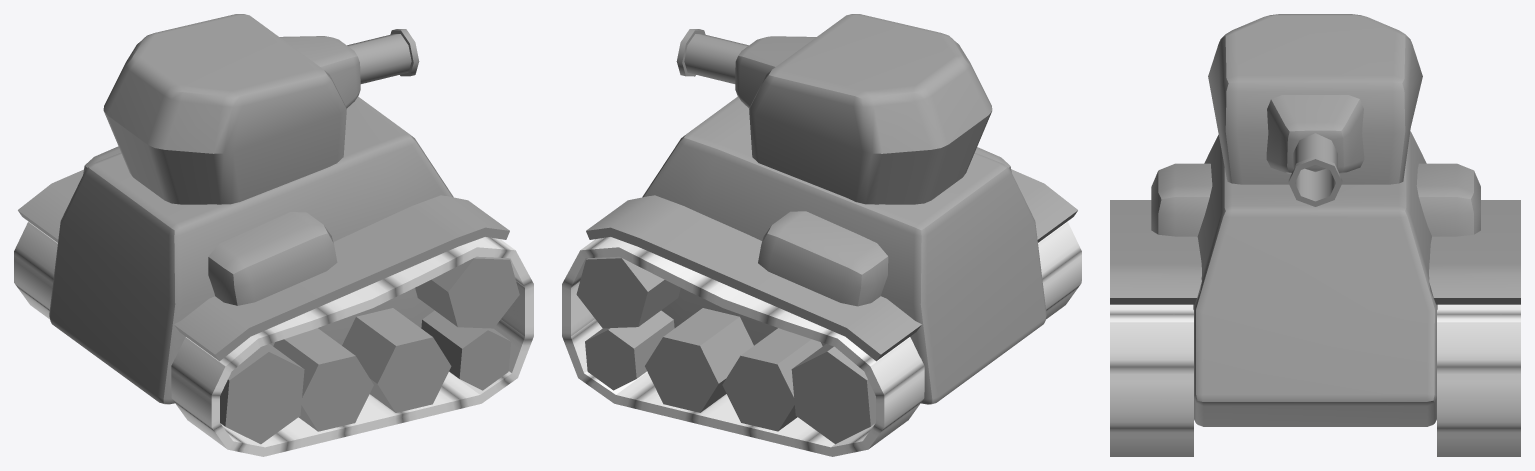
The model's file is SM_LPTank.fbx.
The picture shows the model from 3 angles, left to right: view 1: azimuth 30°, elevation 25°; view 2: azimuth 150°, elevation 25°; view 3: azimuth 270°, elevation 25°; orthographic projection. The views are drawn at different scales.
Visible parts, largest first — view 1: Tank; view 2: Tank; view 3: Tank.
Boxes of the visible parts, x1=… form: Tank: x1=14, y1=14, x2=533, y2=456; Tank: x1=562, y1=14, x2=1081, y2=456; Tank: x1=1110, y1=14, x2=1520, y2=456.
Size of the model in its own units: 1.98 by 1.76 by 2.
